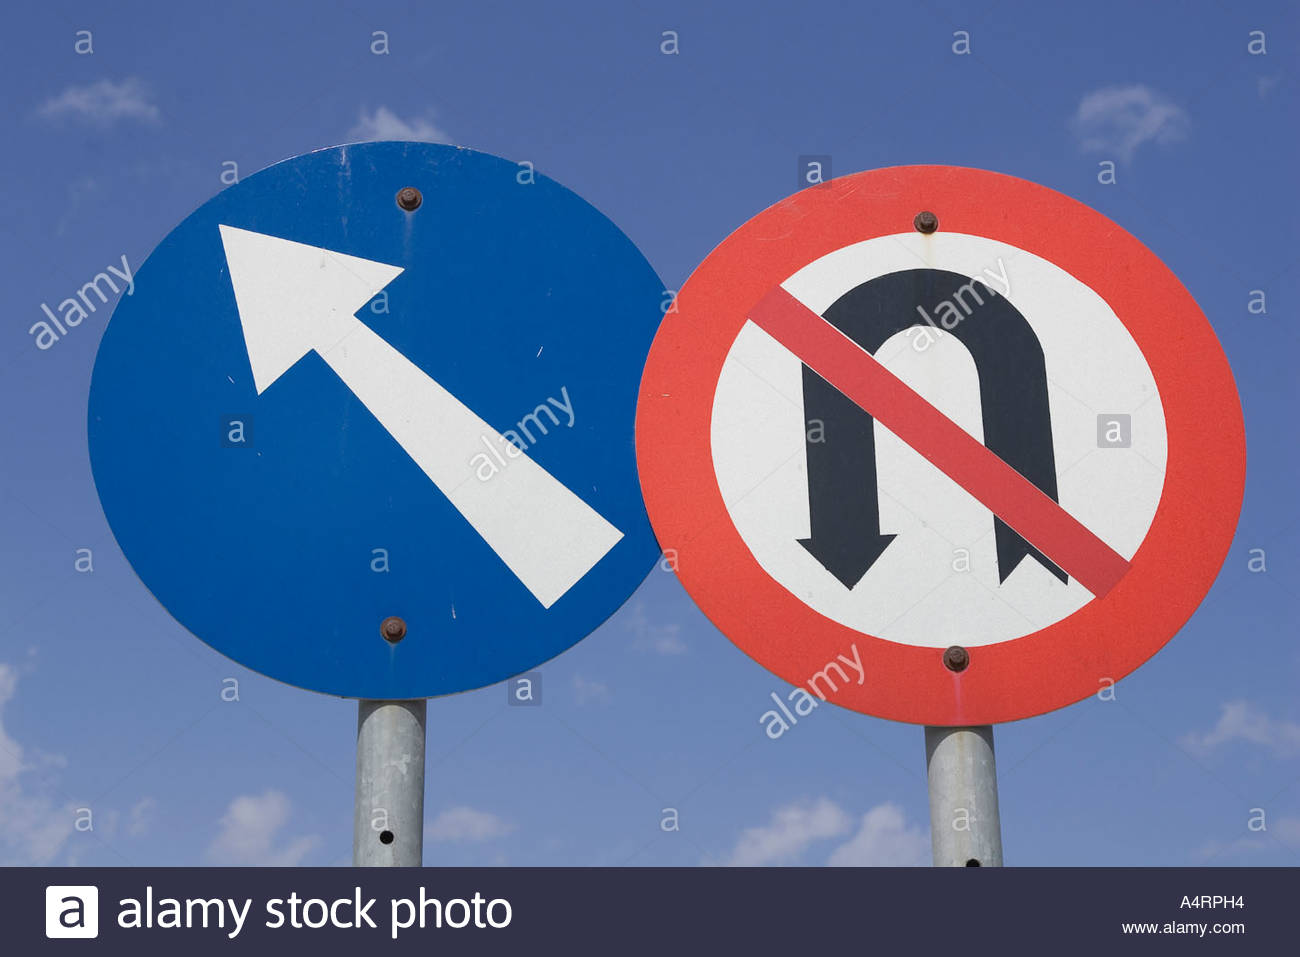No_u_turn: (636, 164, 1247, 727)
